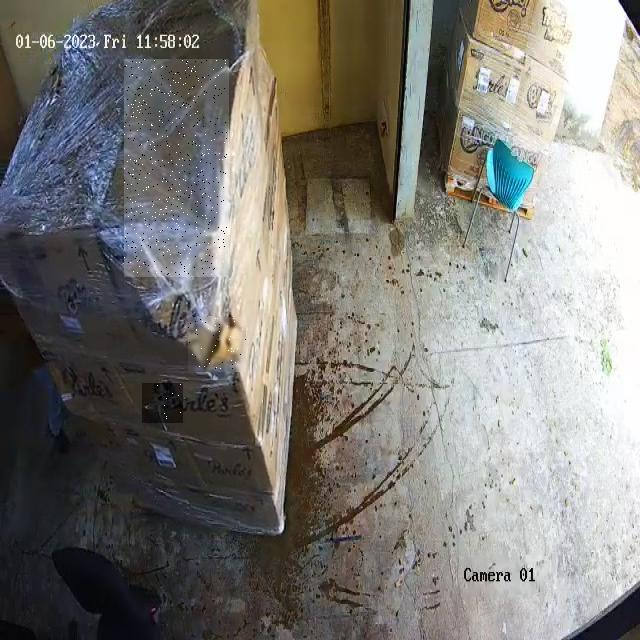leakage: (188, 318, 246, 372), (143, 384, 183, 421)
squeeze: (124, 60, 227, 275)
